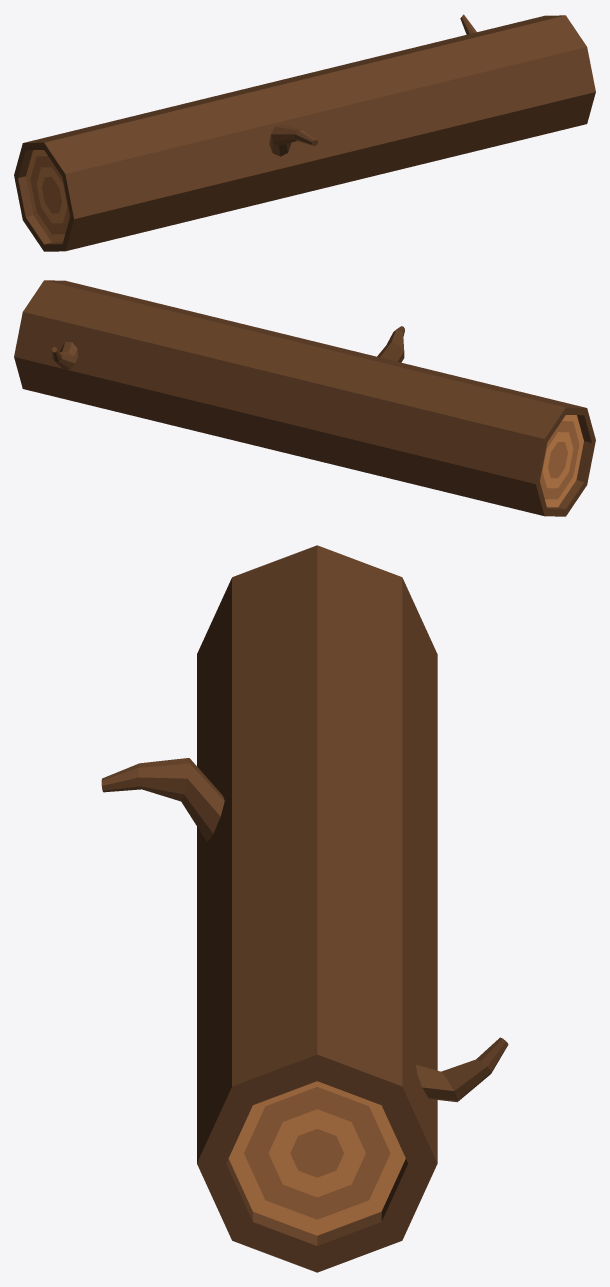
Rendered from Log5.glb.
3 views of the same model, one above another, from view 1: azimuth 30°, elevation 25°; view 2: azimuth 150°, elevation 25°; view 3: azimuth 270°, elevation 25° (orthographic). The views are drawn at different scales.
Parts seen in each view (by area): view 1: Log 4; view 2: Log 4; view 3: Log 4.
Boxes of the visible parts, bbox=[...] form: Log 4: bbox=[14, 14, 595, 251]; Log 4: bbox=[14, 280, 595, 516]; Log 4: bbox=[101, 545, 508, 1272].
Bounding box in the file's own units: 36.28 × 7.25 × 12.25.
